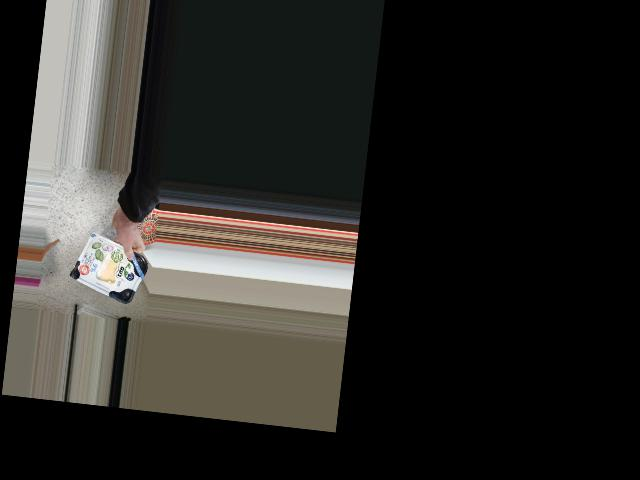cheese: (75, 238, 142, 296)
